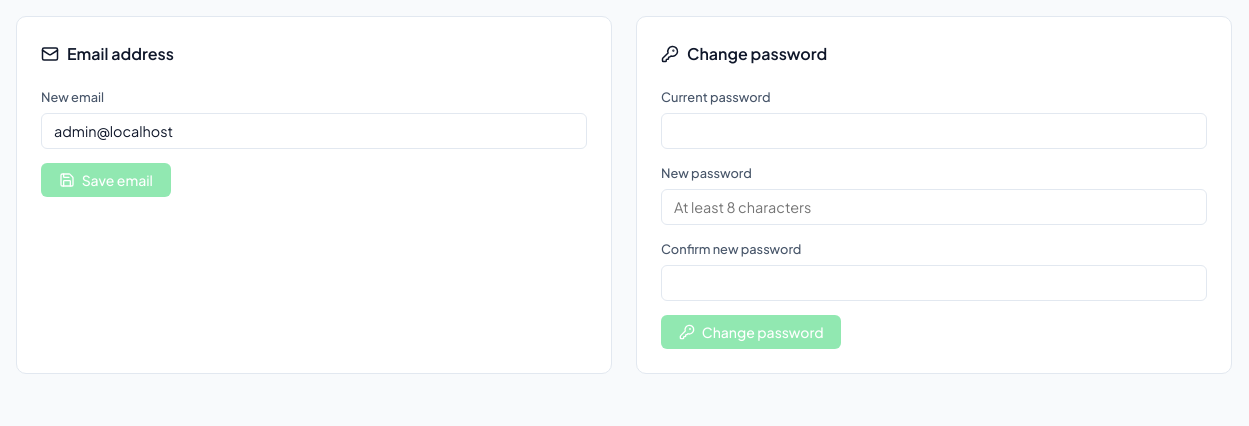
Test: Profile page › with JWT › password change › shows error when new password is too short
Type "oldpass1" into the password field labelled "Current password" at (934, 131), box [661,113,1207,149]
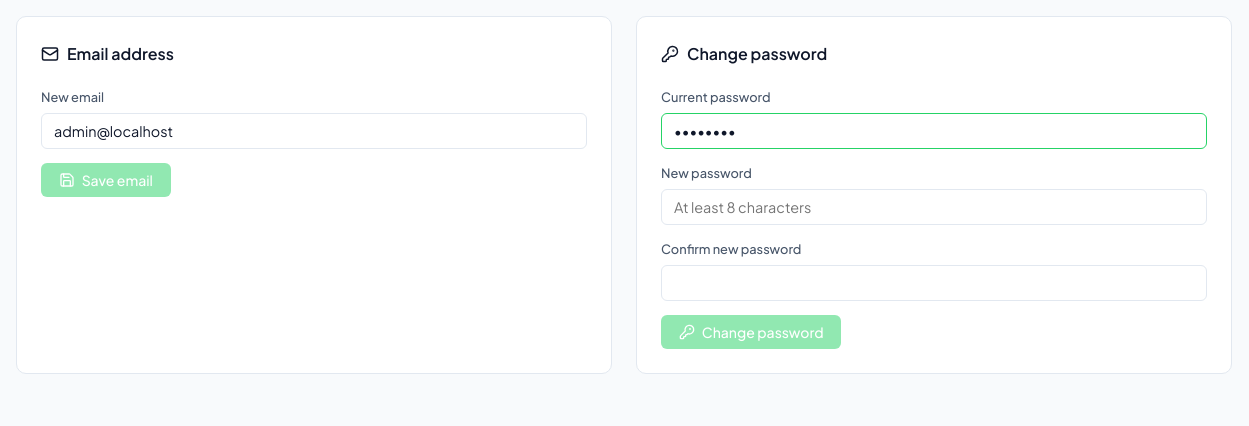
Type "short" into the password field labelled "New password" at (934, 207), box [661,189,1207,225]
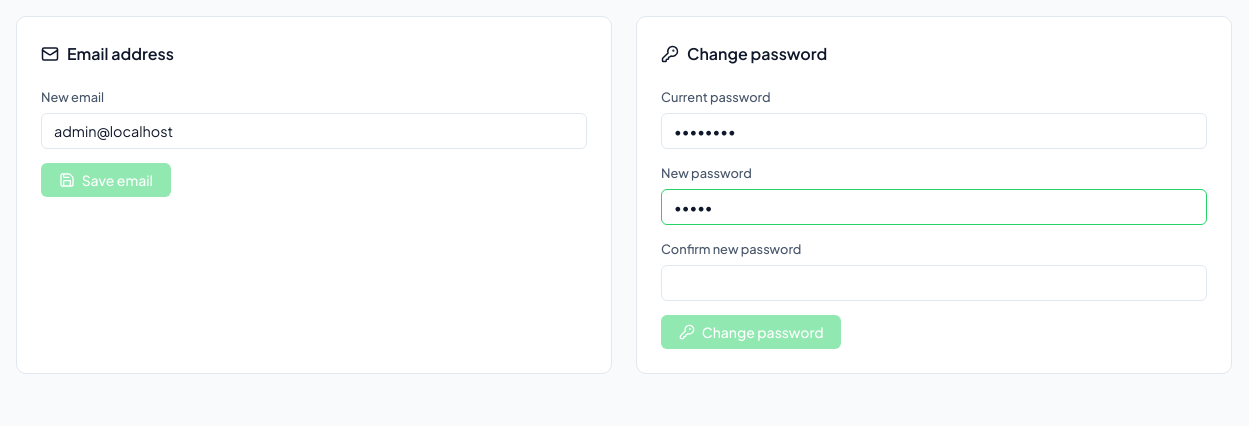
Type "short" into the password field labelled "Confirm new password" at (934, 283), box [661,265,1207,301]
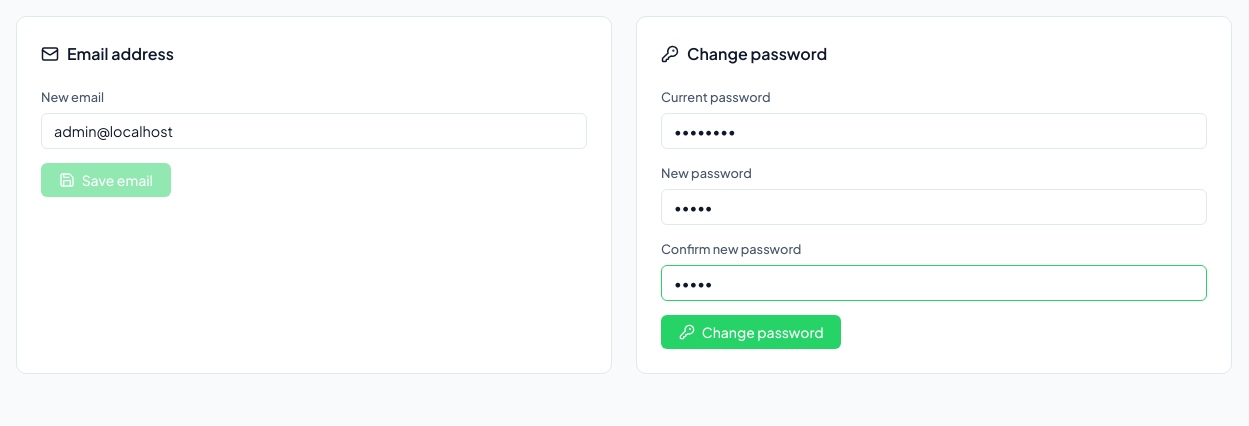
Click the button "Change password" at (751, 332), box [661,315,841,349]
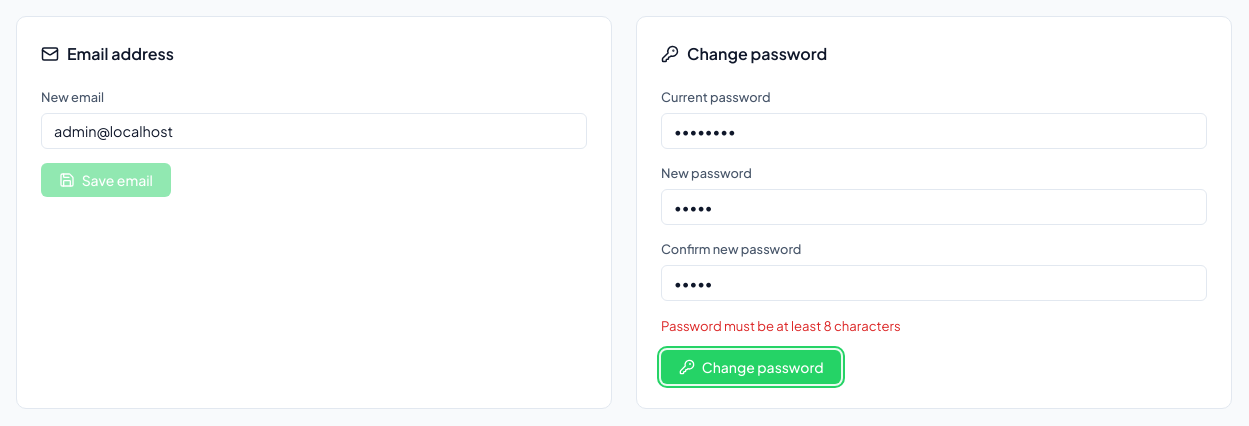
expect the text "Password must be at least 8 characters" is shown: met, box [661,317,901,334]
